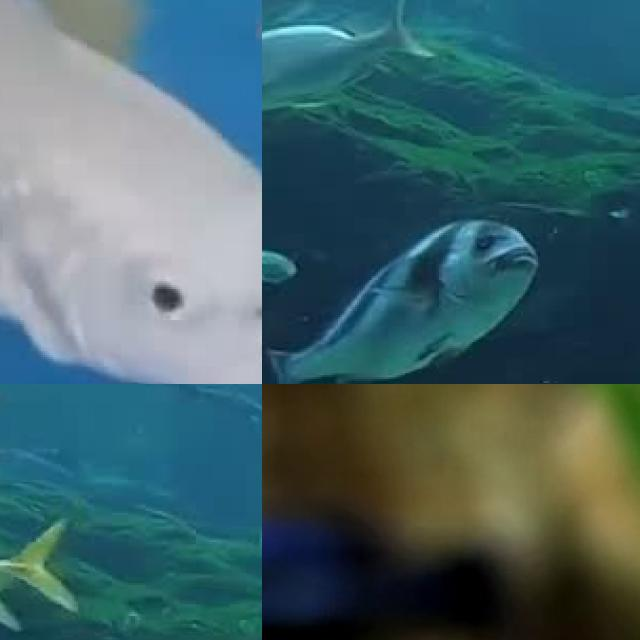fish: (0, 0, 262, 384), (262, 202, 565, 384)
